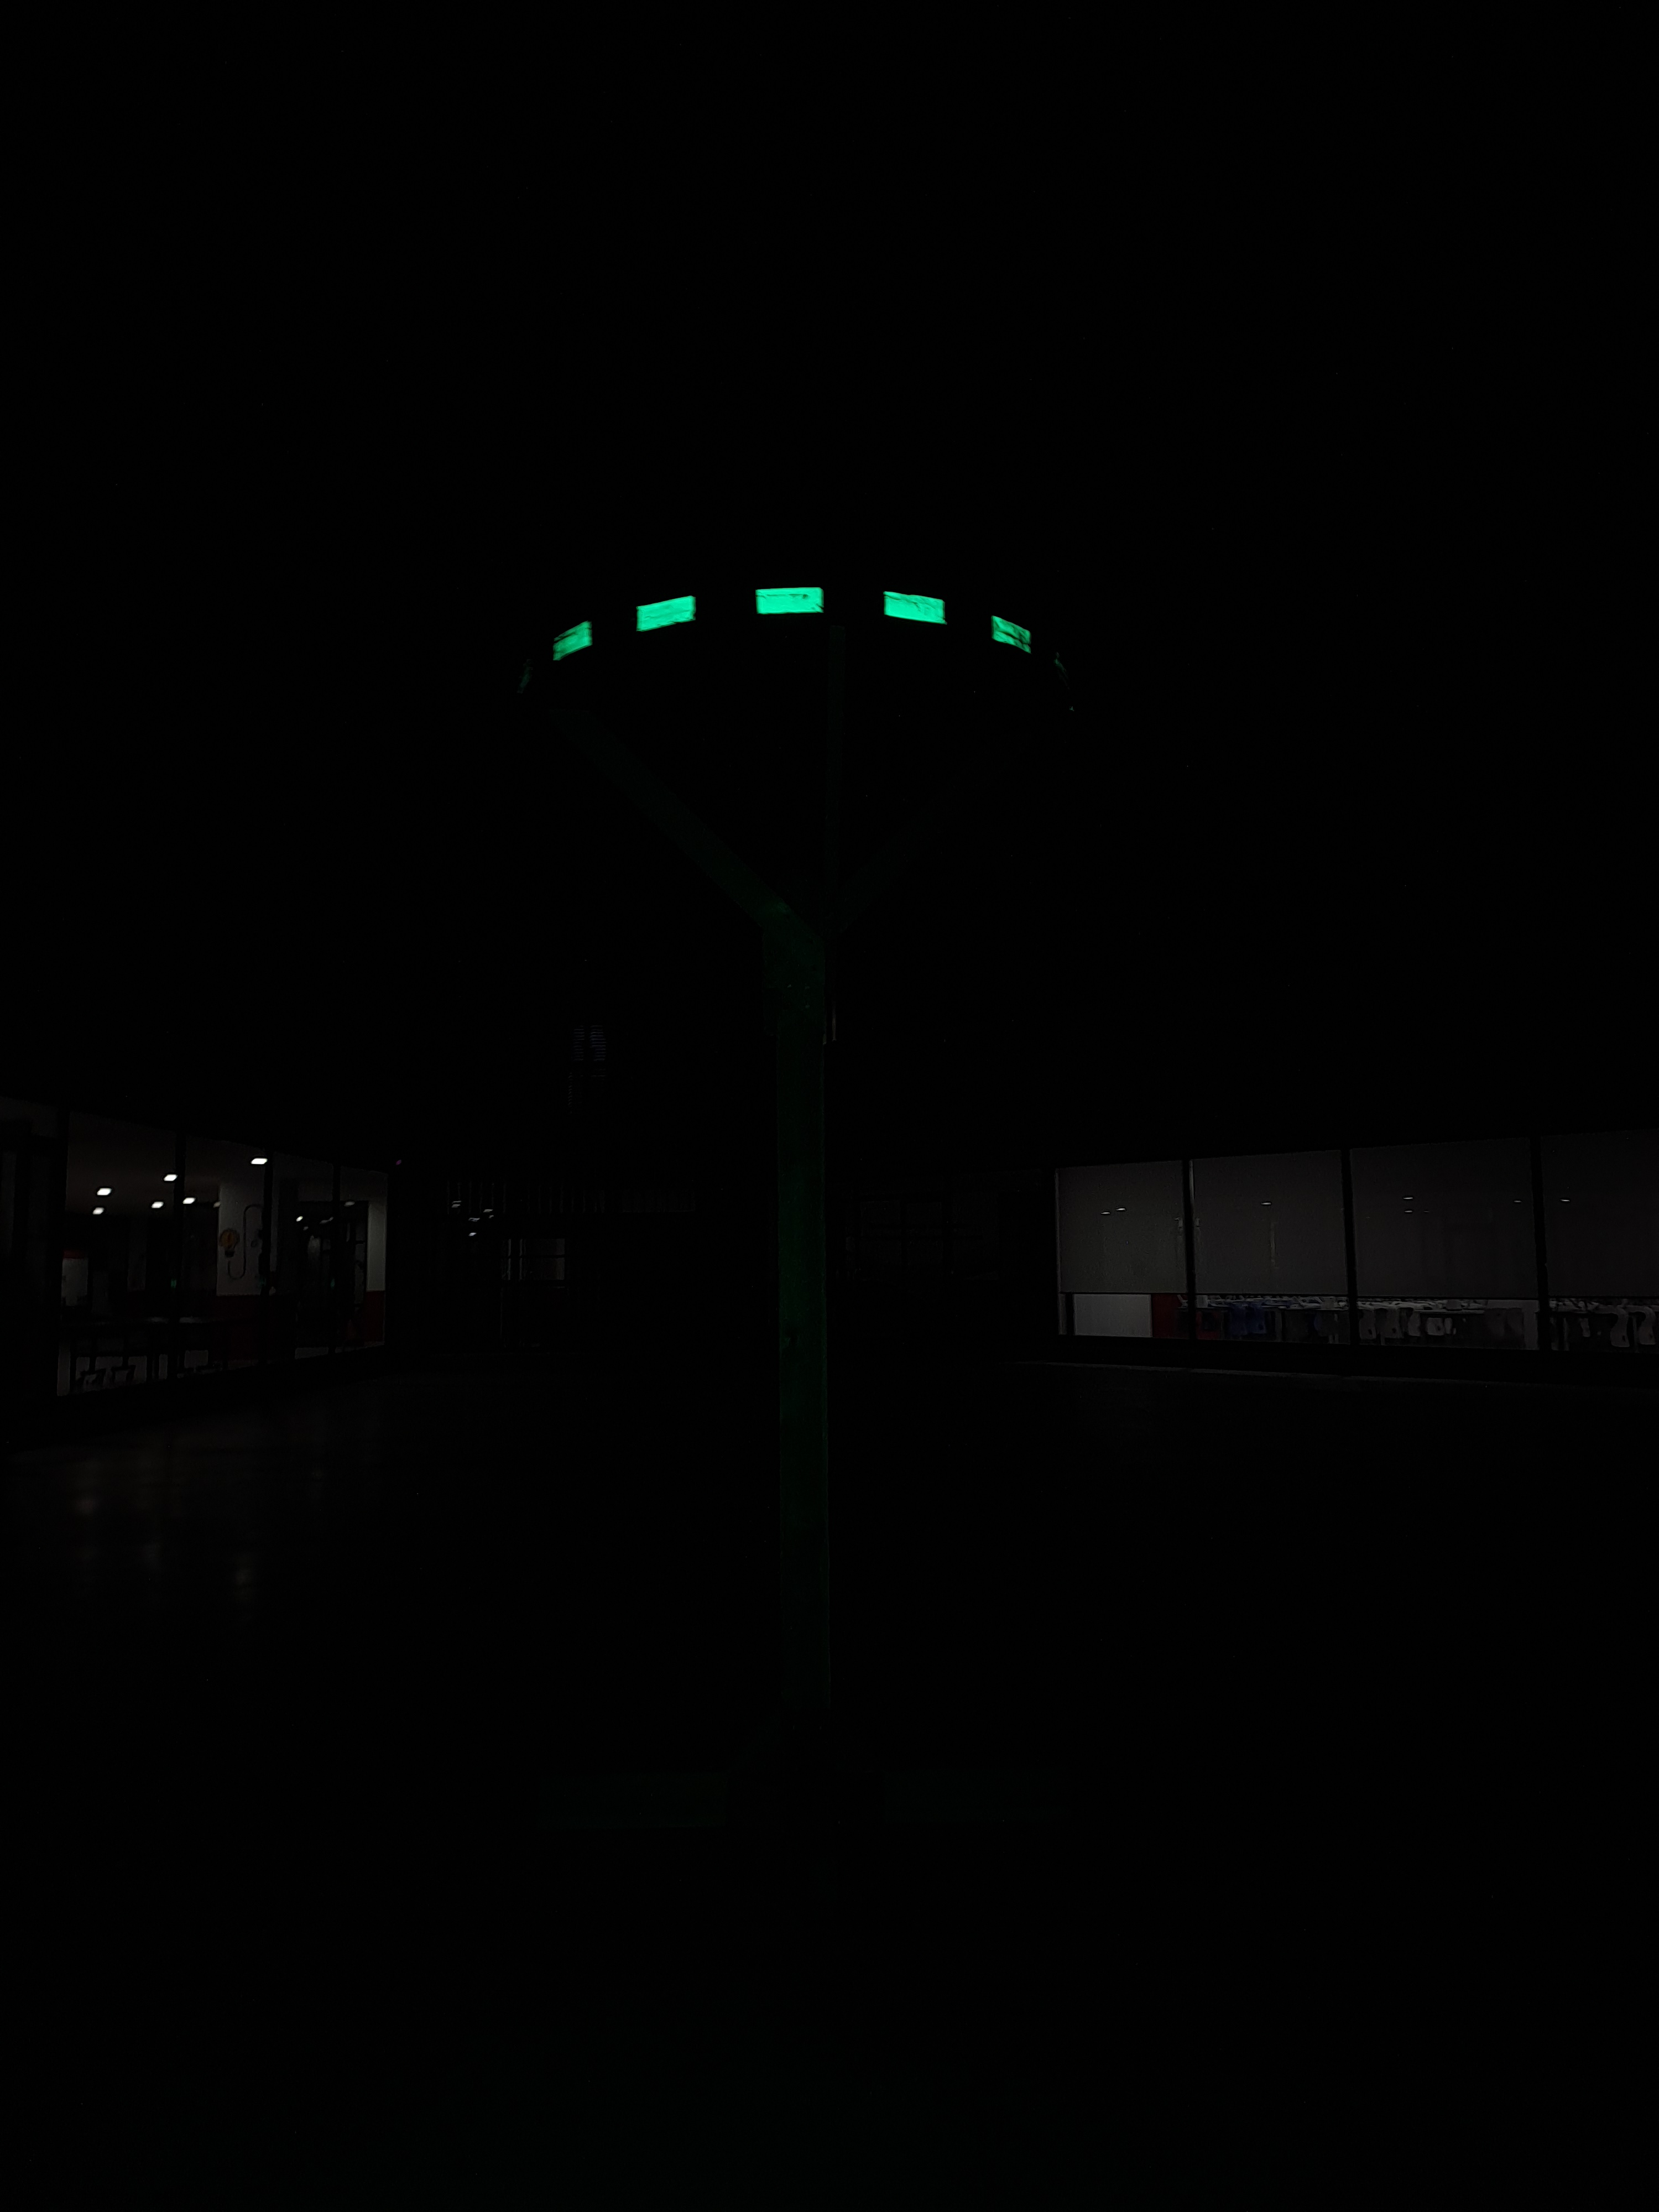hoop: (551, 577, 1039, 700)
